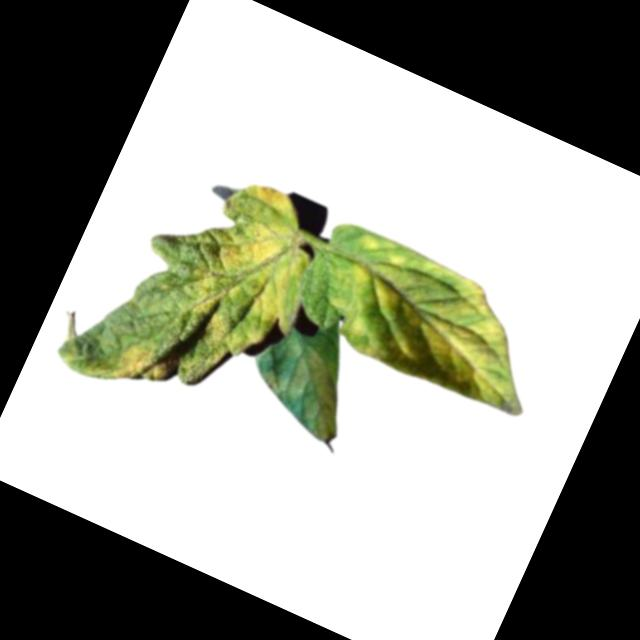Leaf_Mold: (313, 228, 565, 425), (167, 170, 341, 373), (268, 342, 365, 445), (88, 328, 178, 403)
